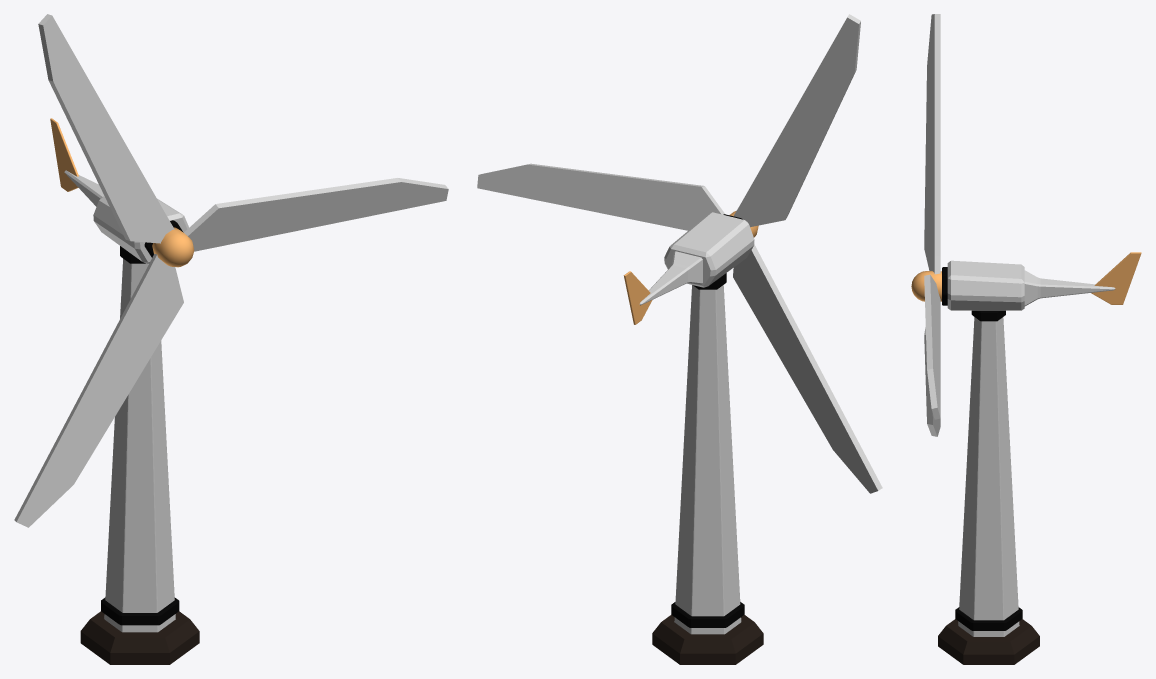
The model's file is ÉolienneAnimFix.fbx.
3 renders of one model, left to right at view 1: azimuth 30°, elevation 25°; view 2: azimuth 150°, elevation 25°; view 3: azimuth 270°, elevation 25°, orthographic. The views are drawn at different scales.
Parts seen in each view (by area): view 1: Cube.002, Cylinder, Cylinder.001, Cube, Sphere.001, Cylinder.004, Plane; view 2: Cube.002, Cylinder, Cube, Cylinder.001, Cube.001, Cylinder.004, Plane; view 3: Cylinder, Cube.002, Cube, Cylinder.001, Cube.001, Plane, Cylinder.004, Sphere.001, Cylinder.003.
Boxes of the visible parts, <box> form: Cube.002: <box>14,14,448,527</box>; Cylinder: <box>104,258,175,632</box>; Cylinder.001: <box>80,611,199,664</box>; Cube: <box>93,196,188,263</box>; Sphere.001: <box>152,227,194,267</box>; Cylinder.004: <box>101,597,179,625</box>; Plane: <box>50,118,78,191</box>; Cube.002: <box>477,14,882,493</box>; Cylinder: <box>674,285,741,634</box>; Cube: <box>664,212,754,287</box>; Cylinder.001: <box>652,614,763,664</box>; Cube.001: <box>639,251,702,305</box>; Cylinder.004: <box>671,602,744,627</box>; Plane: <box>623,271,652,324</box>; Cylinder: <box>958,317,1019,636</box>; Cube.002: <box>924,14,940,436</box>; Cube: <box>947,260,1024,310</box>; Cylinder.001: <box>938,619,1039,664</box>; Cube.001: <box>1024,270,1115,306</box>; Plane: <box>1091,252,1141,304</box>; Cylinder.004: <box>955,607,1022,630</box>; Sphere.001: <box>911,271,941,301</box>; Cylinder.003: <box>971,310,1005,321</box>.
Bounding box in the file's own units: 2089 × 3153 × 1129.
